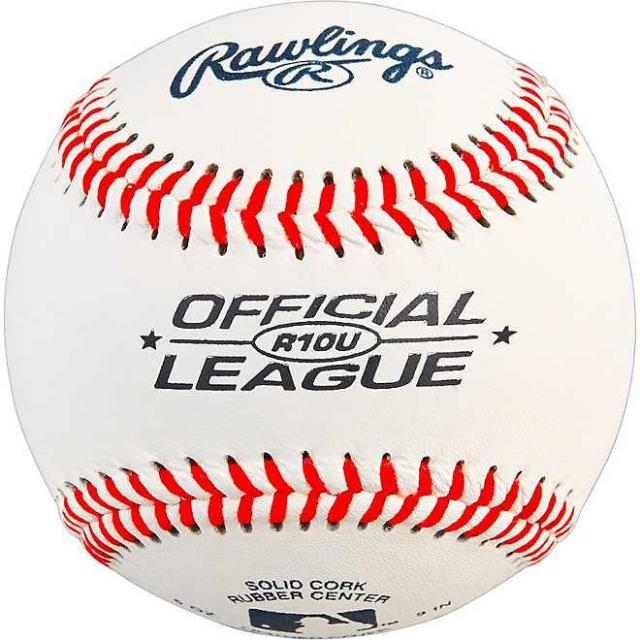baseball: (4, 5, 633, 619)
